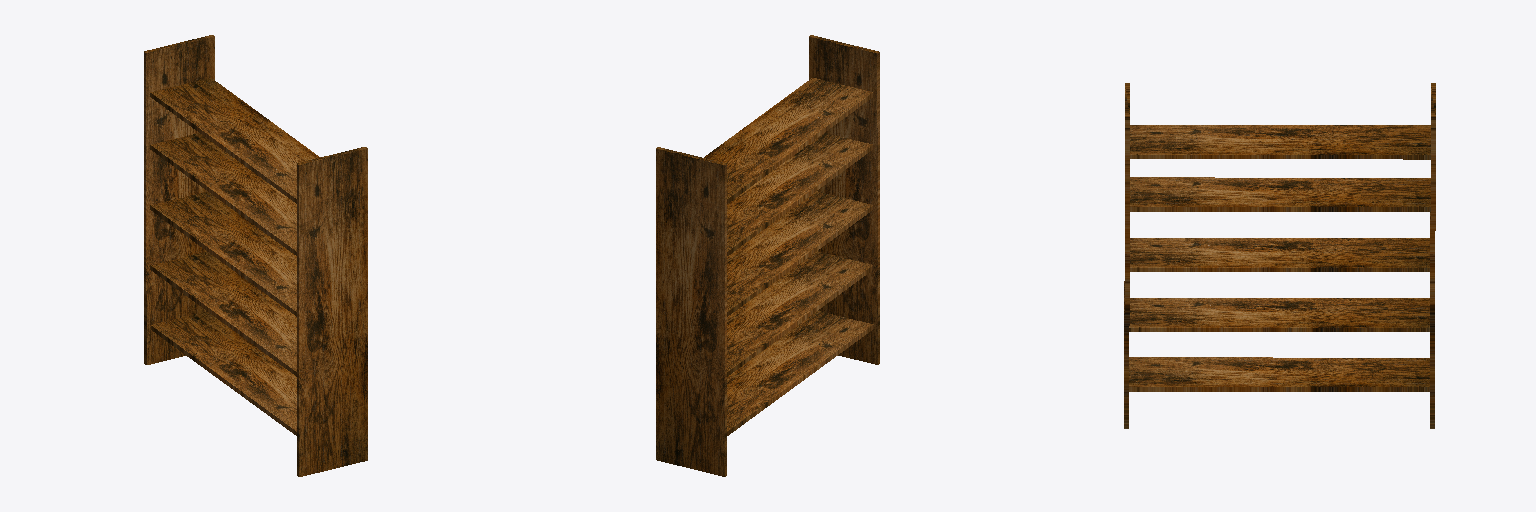
The picture shows the model from 3 angles: view 1: azimuth 30°, elevation 25°; view 2: azimuth 150°, elevation 25°; view 3: azimuth 270°, elevation 25°; orthographic projection.
Parts seen in each view (by area): view 1: Mesh Mesh; view 2: Mesh Mesh; view 3: Mesh Mesh.
Boxes of the visible parts, <box> form: Mesh Mesh: <box>144,35,367,476</box>; Mesh Mesh: <box>656,35,879,476</box>; Mesh Mesh: <box>1124,83,1435,428</box>.
Size of the model in its own units: 0.4278 by 1.85 by 1.68.
1 materials, 1 textured.